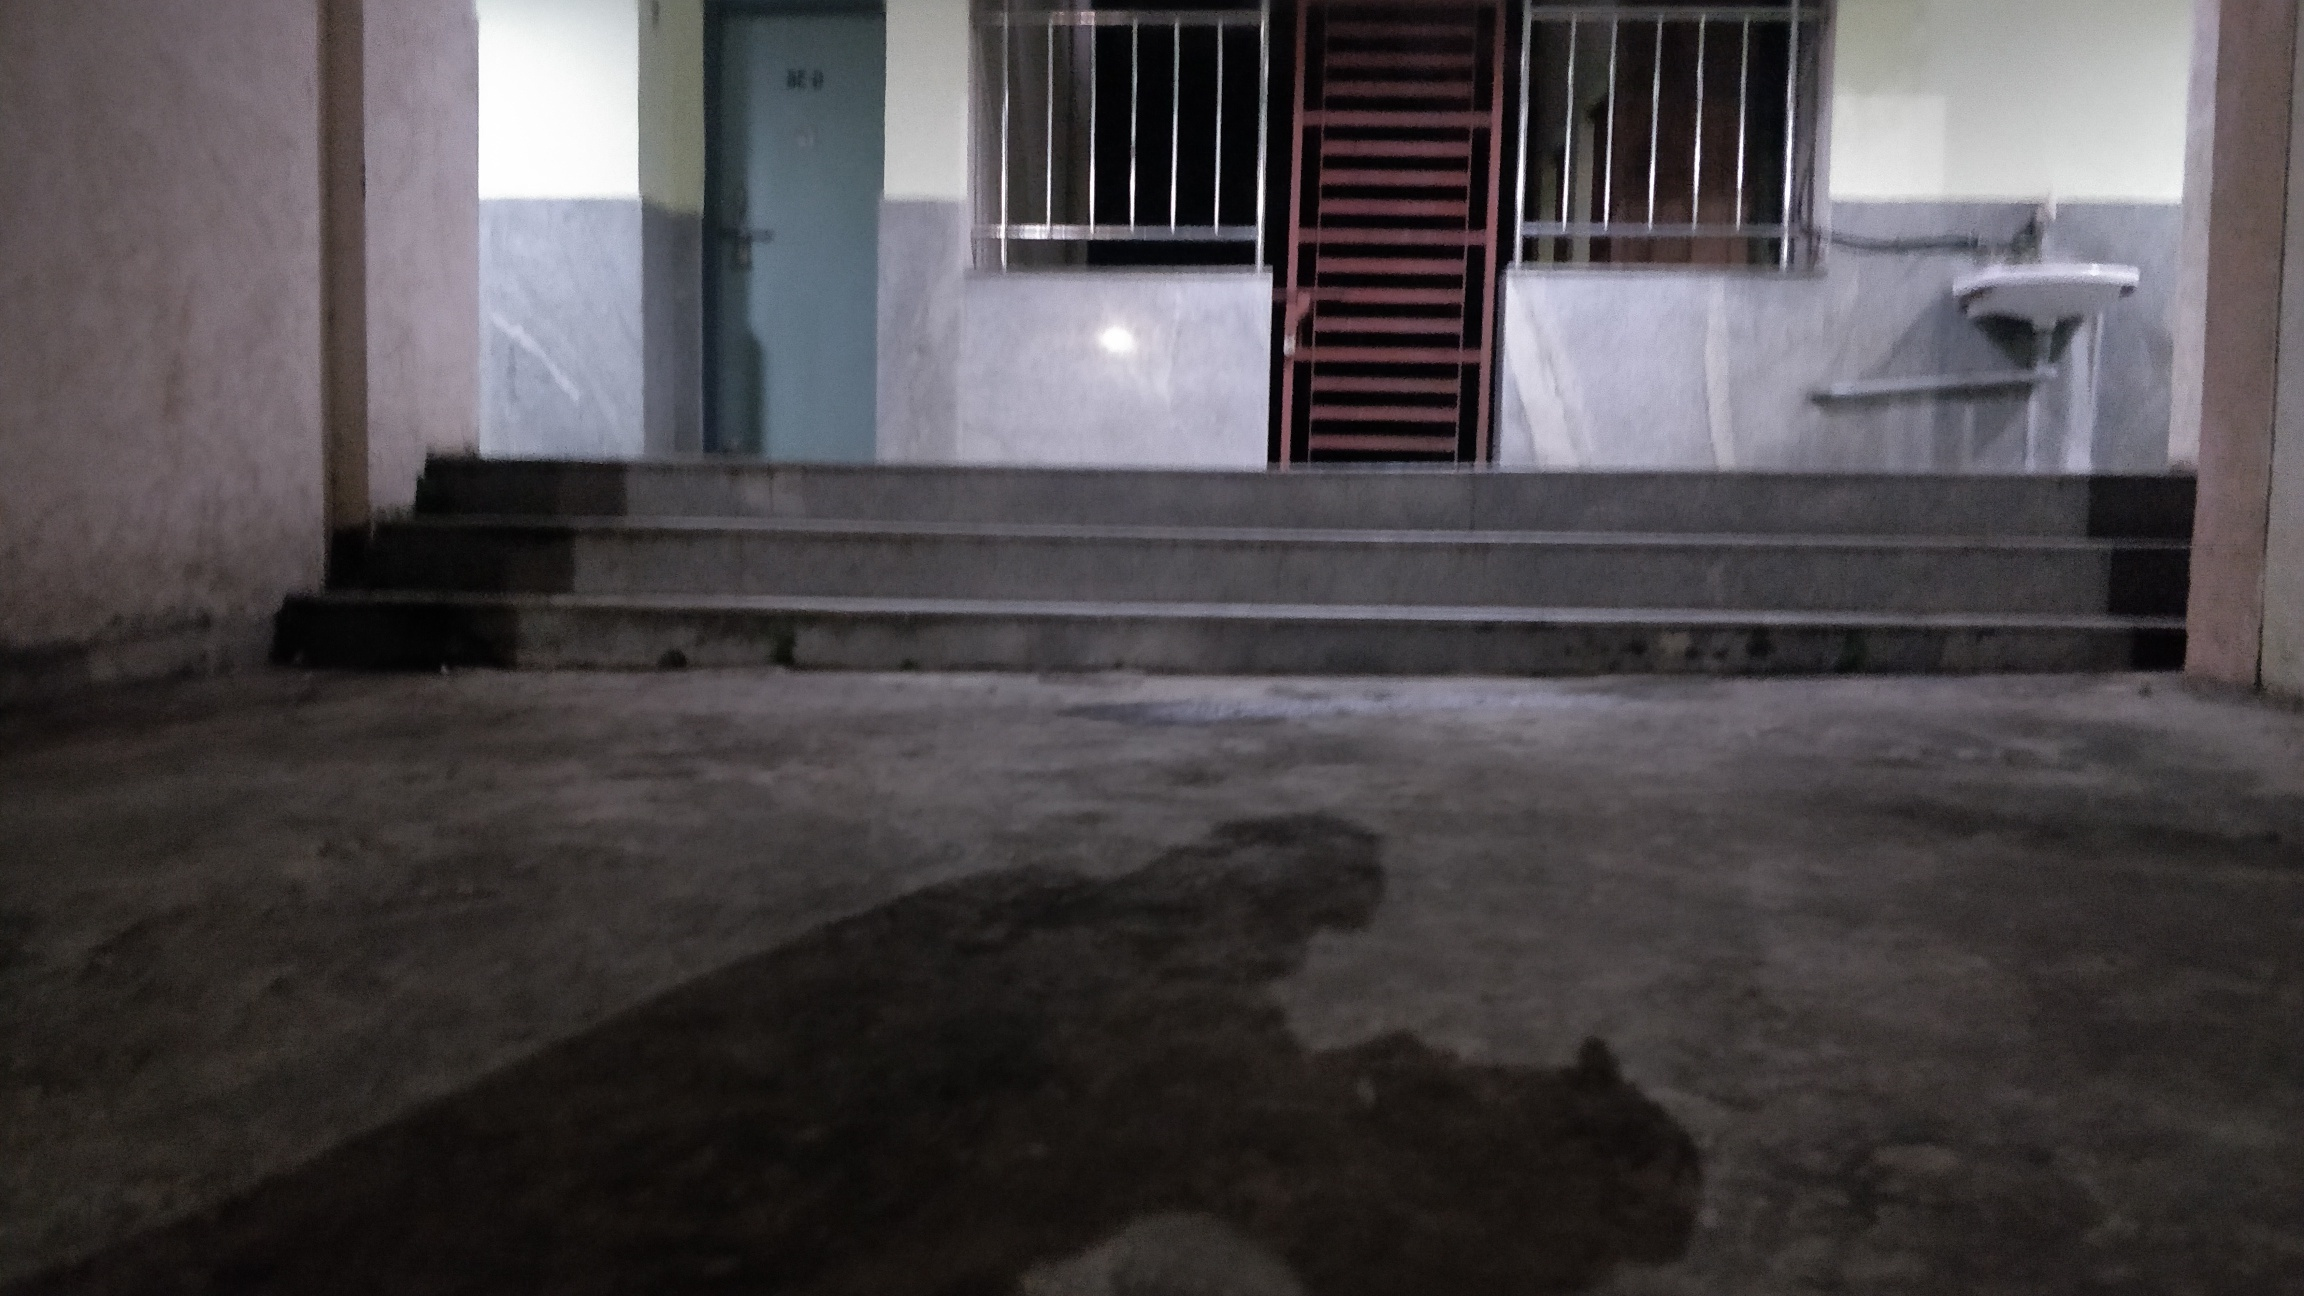stairs_up: (263, 453, 2225, 712)
